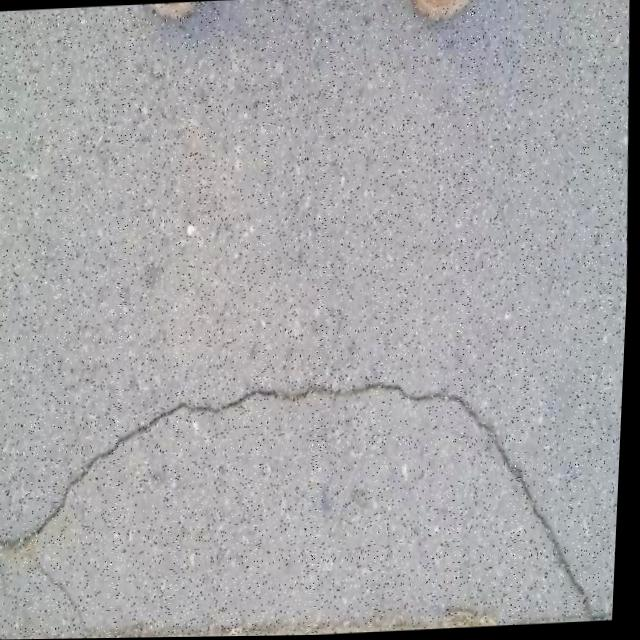Crack: (0, 359, 627, 640)
